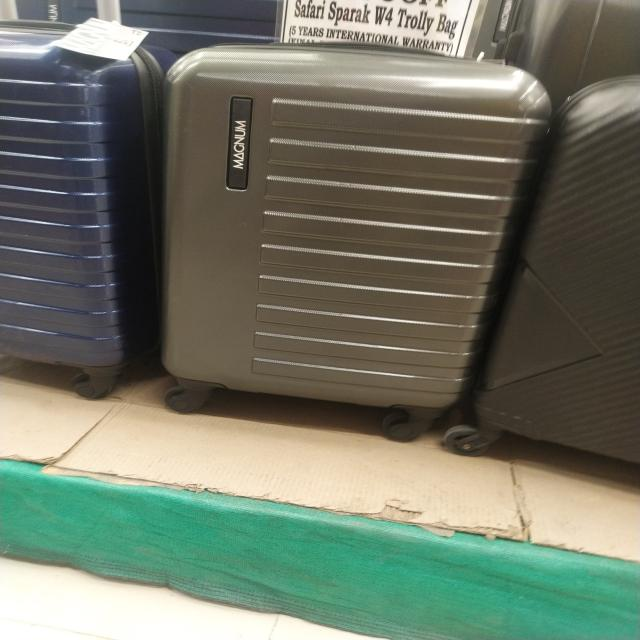suitcaserotation: (152, 34, 554, 446), (432, 69, 640, 463), (0, 0, 169, 402)
